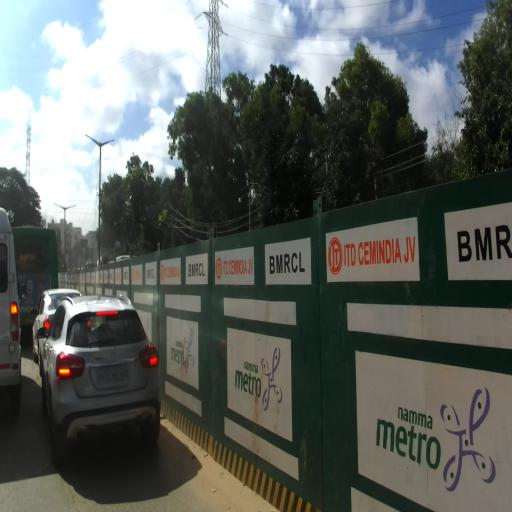street_light_0: (85, 134, 101, 148), (100, 139, 114, 148), (53, 203, 66, 211), (64, 205, 76, 211)
